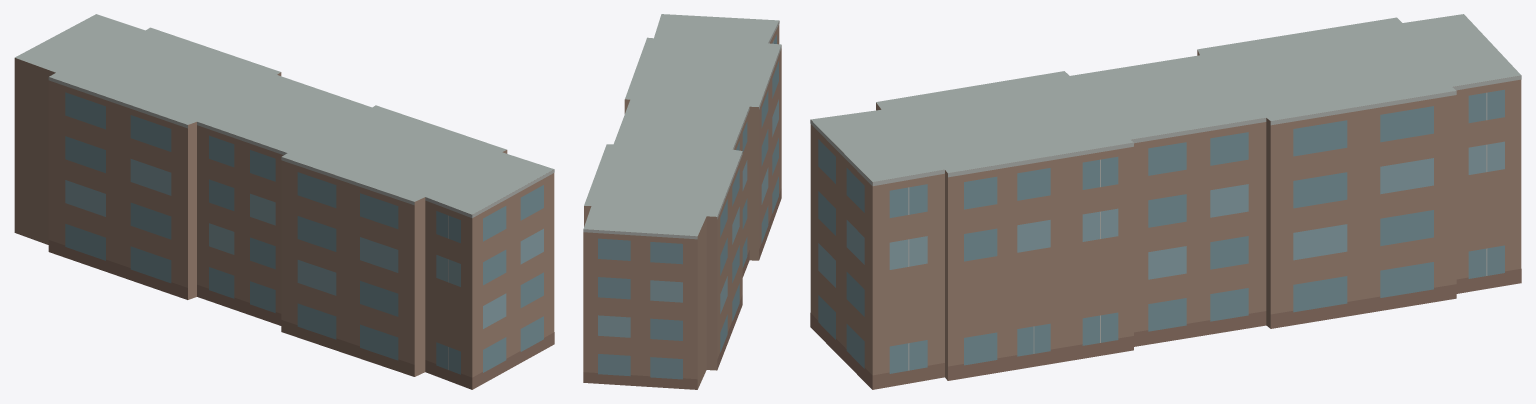
File: survey-upis-32867731.glb
3 views of the same model, side by side, from view 1: azimuth 30°, elevation 25°; view 2: azimuth 150°, elevation 25°; view 3: azimuth 270°, elevation 25° (orthographic). The views are drawn at different scales.
Parts seen in each view (by area): view 1: survey-upis-32867731.tmp; view 2: survey-upis-32867731.tmp; view 3: survey-upis-32867731.tmp.
Boxes of the visible parts, bbox=[...] form: survey-upis-32867731.tmp: bbox=[14, 14, 554, 389]; survey-upis-32867731.tmp: bbox=[583, 14, 781, 389]; survey-upis-32867731.tmp: bbox=[810, 14, 1521, 389].
Bounding box in the file's own units: 21.28 × 12.25 × 38.01.
